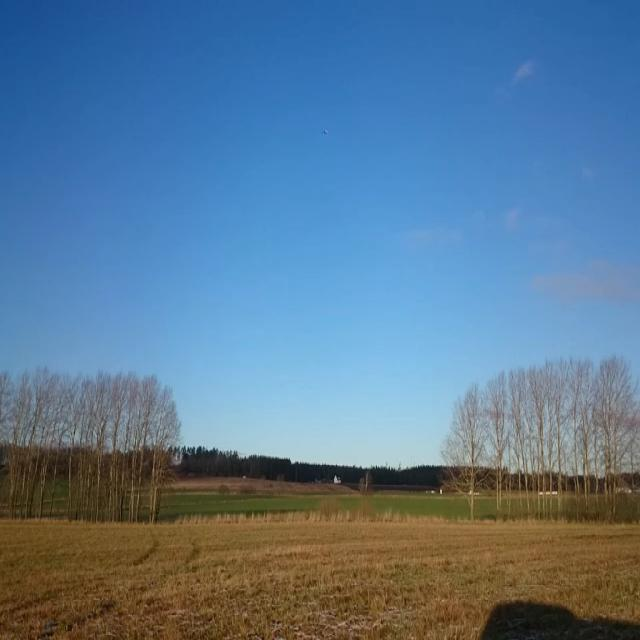Drone: (314, 124, 335, 142)
